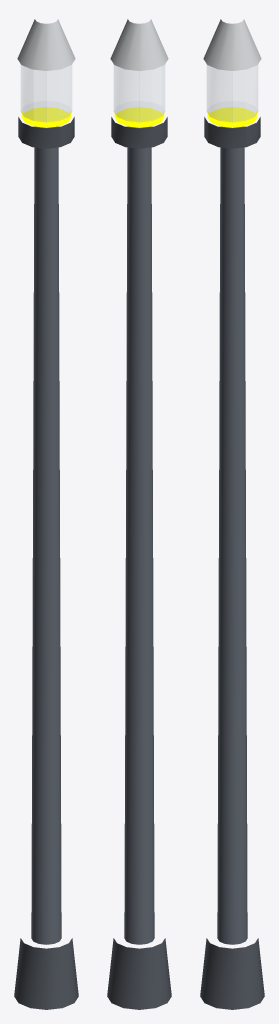
Rendered from ext_street_light_pole.glb.
3 renders of one model, left to right at view 1: azimuth 90°, elevation 25°; view 2: azimuth 150°, elevation 25°; view 3: azimuth 270°, elevation 25°, orthographic.
Parts seen in each view (by area): view 1: Pole, Base, Diffuser, Cap, Housing, Lamp_Ring; view 2: Pole, Base, Diffuser, Cap, Housing, Lamp_Ring; view 3: Pole, Base, Diffuser, Cap, Housing, Lamp_Ring.
Part boxes in pixels (box(x1,y1,x2,y2)): Pole: box(31, 147, 61, 944); Base: box(14, 938, 78, 1009); Diffuser: box(21, 65, 71, 122); Cap: box(17, 19, 75, 70); Housing: box(18, 117, 74, 148); Lamp_Ring: box(21, 107, 71, 127); Pole: box(124, 147, 154, 944); Base: box(107, 938, 171, 1009); Diffuser: box(114, 65, 164, 122); Cap: box(110, 19, 168, 70); Housing: box(111, 117, 167, 148); Lamp_Ring: box(114, 107, 164, 127); Pole: box(217, 147, 247, 944); Base: box(200, 938, 264, 1009); Diffuser: box(207, 65, 257, 122); Cap: box(203, 19, 261, 70); Housing: box(204, 117, 260, 148); Lamp_Ring: box(207, 107, 257, 127).
Size of the model in its own units: 0.3 by 5 by 0.3.
